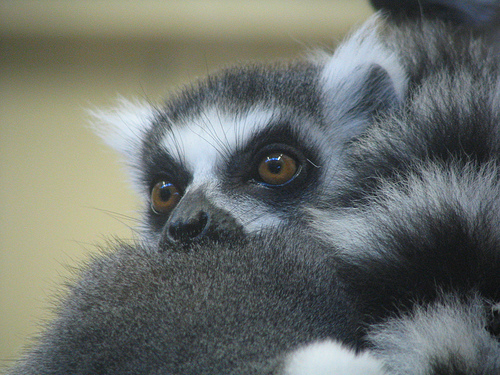cat: (84, 1, 499, 374)
